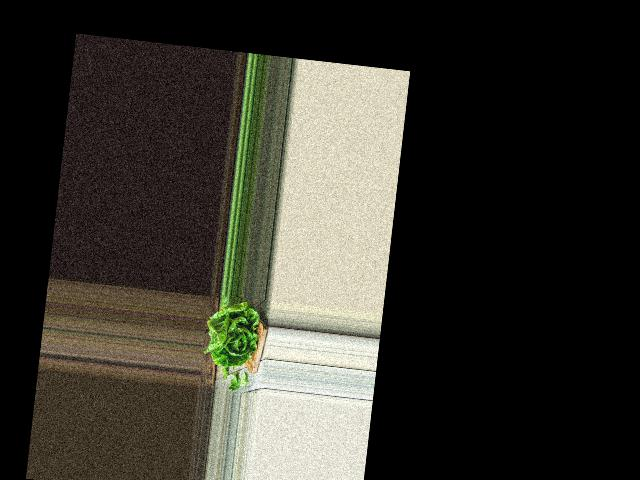lettuce: (204, 296, 264, 367)
